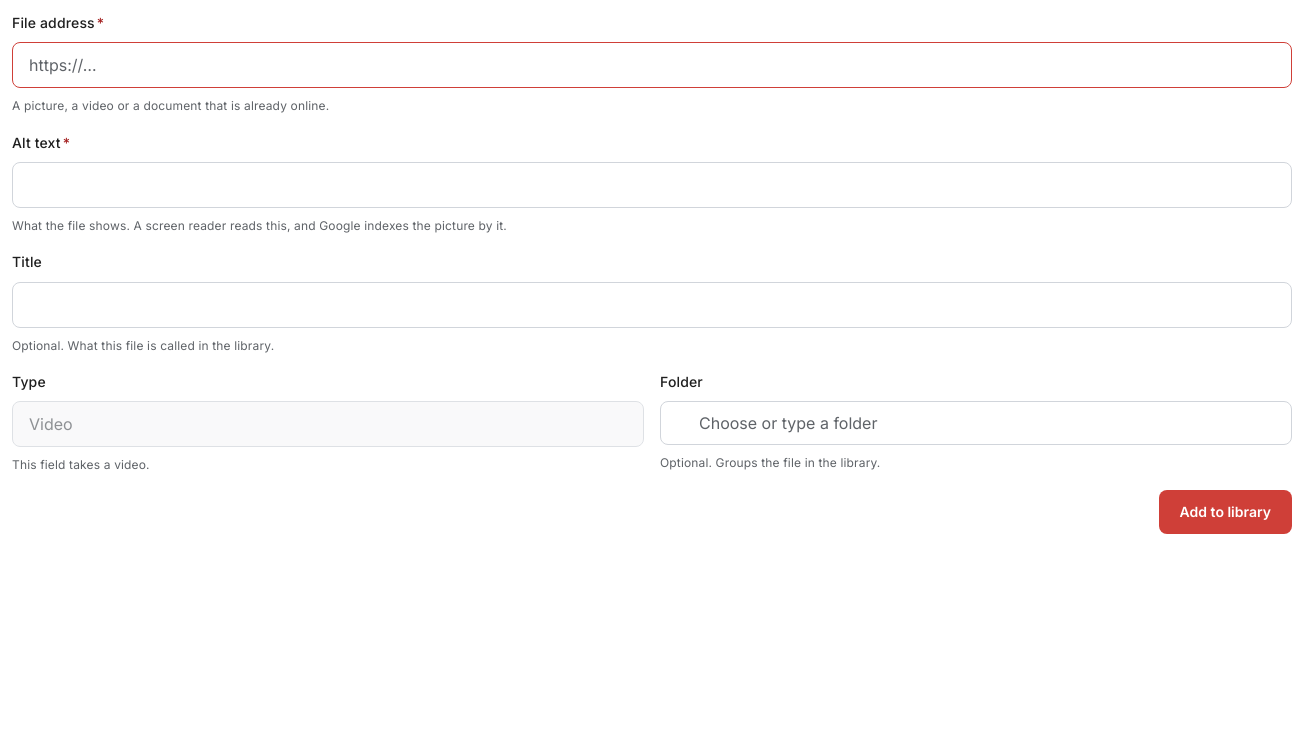
Scenario: an address already in the library (QA-63) › does not offer a file of another kind to a field that takes one kind
Type "https://example.com/download?id=7" into the field labelled "File address*" at (652, 65), box x1=12 y1=42 x2=1292 y2=88
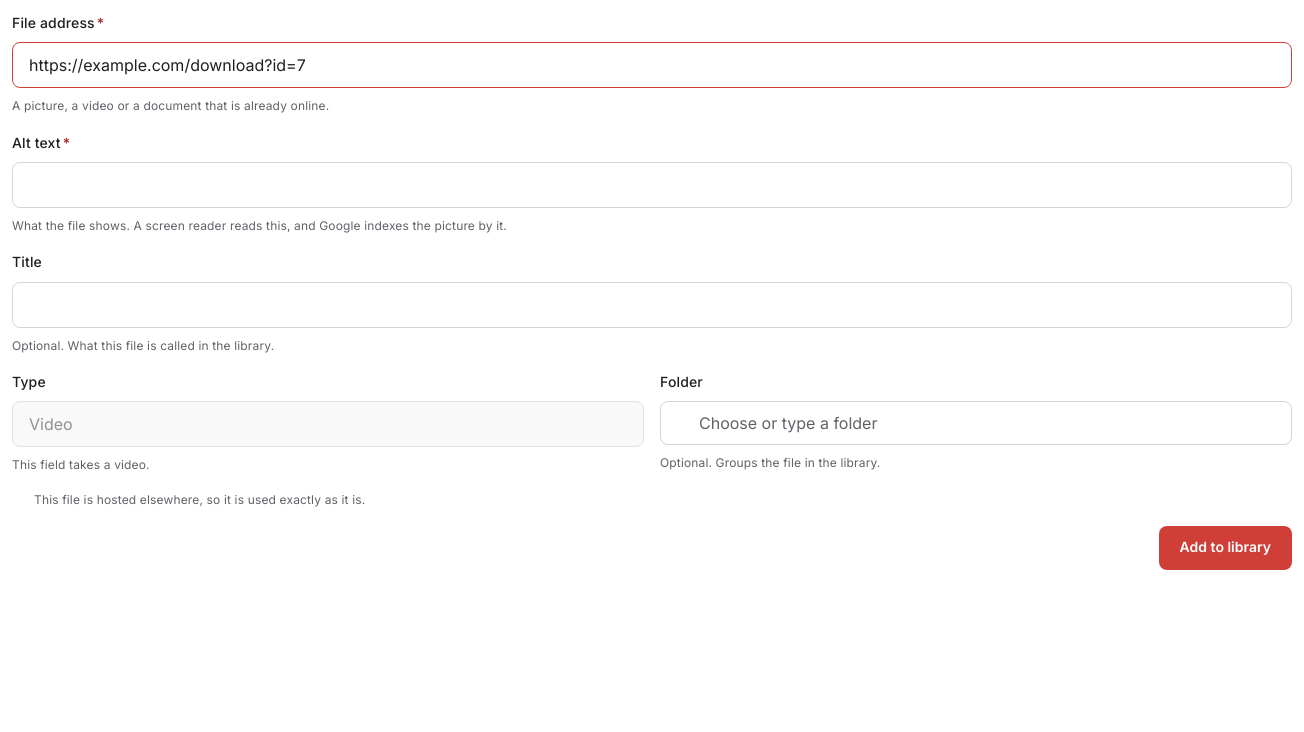
Type "A photograph" into the field labelled "Alt text*" at (652, 185), box x1=12 y1=162 x2=1292 y2=208
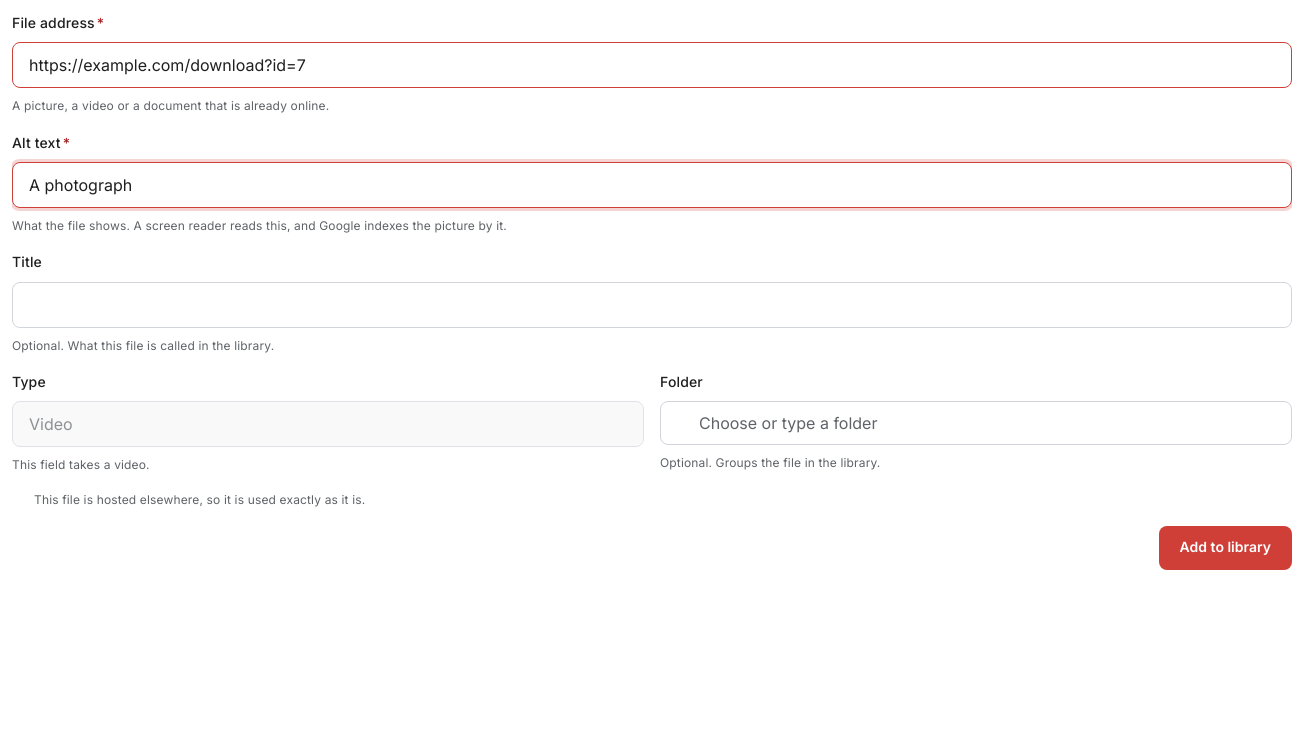
Click the button "Add to library" at (1225, 548), box x1=1159 y1=526 x2=1292 y2=570
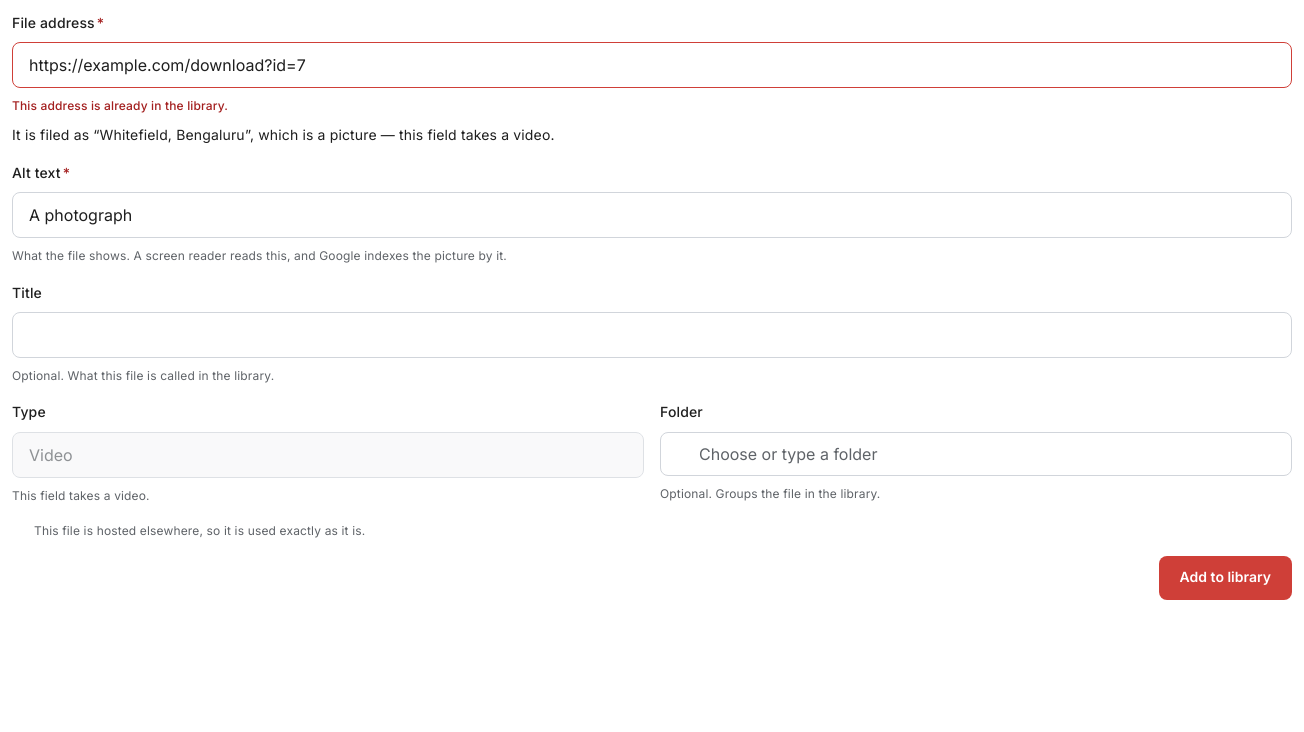
Result: the text "which is a picture — this field takes a video" is shown at x1=250 y1=126 x2=555 y2=143
